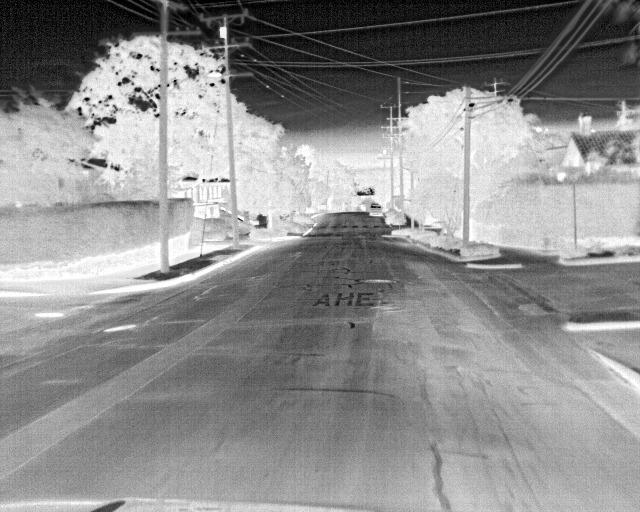car: (367, 201, 384, 218)
